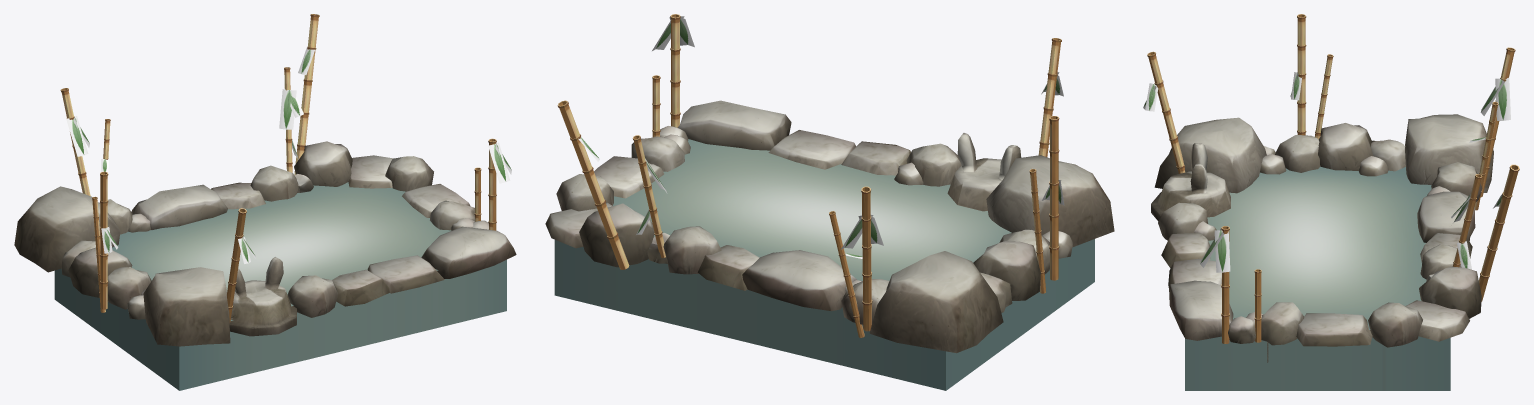
The model's file is healing spa.FBX.
3 views of the same model, side by side, from view 1: azimuth 30°, elevation 25°; view 2: azimuth 150°, elevation 25°; view 3: azimuth 270°, elevation 25° (orthographic). The views are drawn at different scales.
Visible parts, largest first — view 1: Box697, Object001; view 2: Box697, Object001; view 3: Box697, Object001.
Part boxes in pixels (x1,y1,x2,y2): Box697: (14, 14, 516, 390); Object001: (112, 182, 451, 320); Box697: (545, 14, 1114, 390); Object001: (613, 139, 1011, 280); Box697: (1143, 14, 1519, 390); Object001: (1207, 166, 1431, 329).
Bounding box in the file's own units: 581 × 282 × 468.
Materials: 1 (1 with a texture image).
